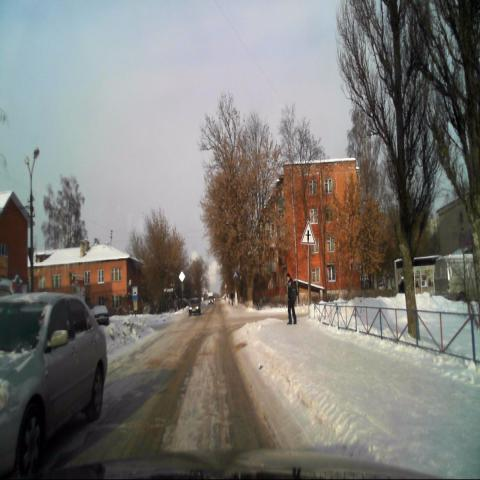2_3: (300, 221, 316, 245)
